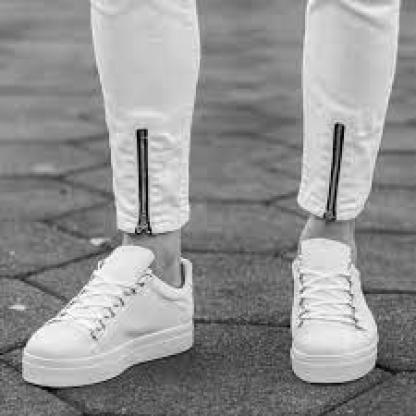ankle: (163, 251, 171, 257), (354, 248, 359, 251)
heel: (183, 308, 188, 313), (294, 262, 297, 267)
left_foot: (287, 217, 380, 379)
pinky: (33, 332, 39, 337), (366, 336, 369, 339)
right_foot: (24, 236, 194, 389)
toe: (64, 356, 71, 360), (309, 343, 311, 346)
